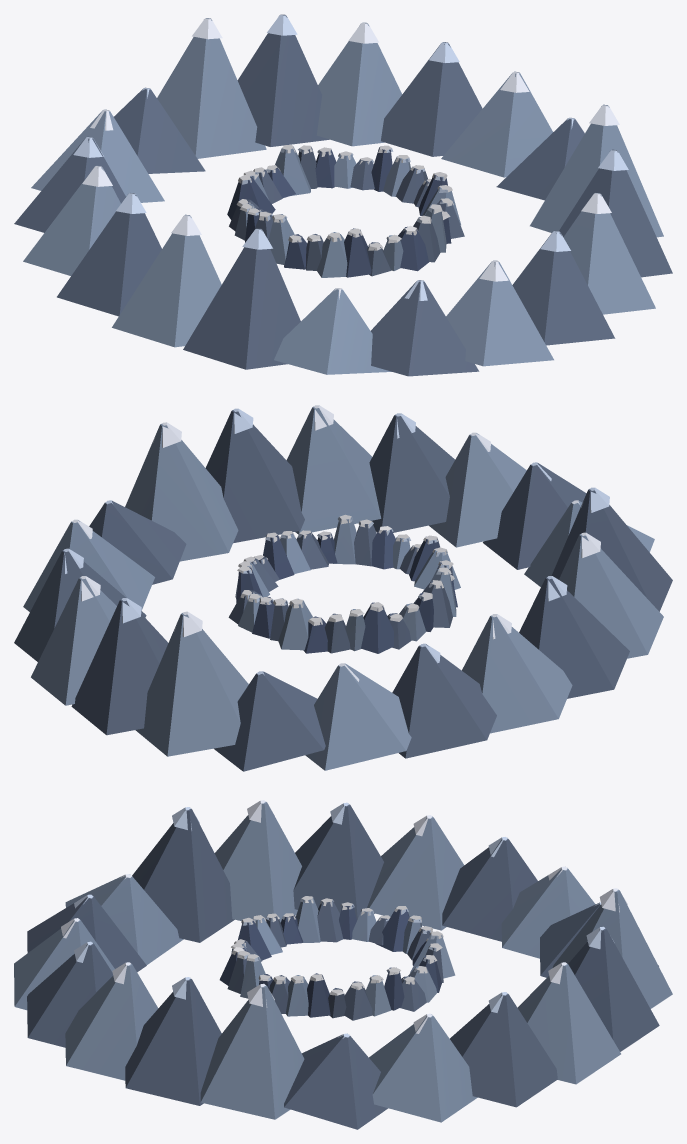
Rendered from ridge.glb.
3 views of the same model, one above another, from view 1: azimuth 30°, elevation 25°; view 2: azimuth 150°, elevation 25°; view 3: azimuth 270°, elevation 25° (orthographic). The views are drawn at different scales.
Visible parts, largest first — view 1: ridge; view 2: ridge; view 3: ridge.
Part boxes in pixels (left/top/right/bottom): ridge: left=14, top=14, right=672, bottom=376; ridge: left=14, top=405, right=672, bottom=771; ridge: left=14, top=800, right=672, bottom=1129.
Size of the model in its own units: 189 by 41.57 by 208.
